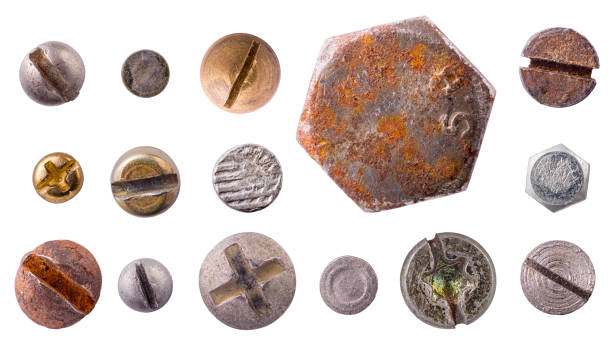rust: (303, 14, 496, 214), (16, 242, 110, 323), (516, 28, 607, 108)
